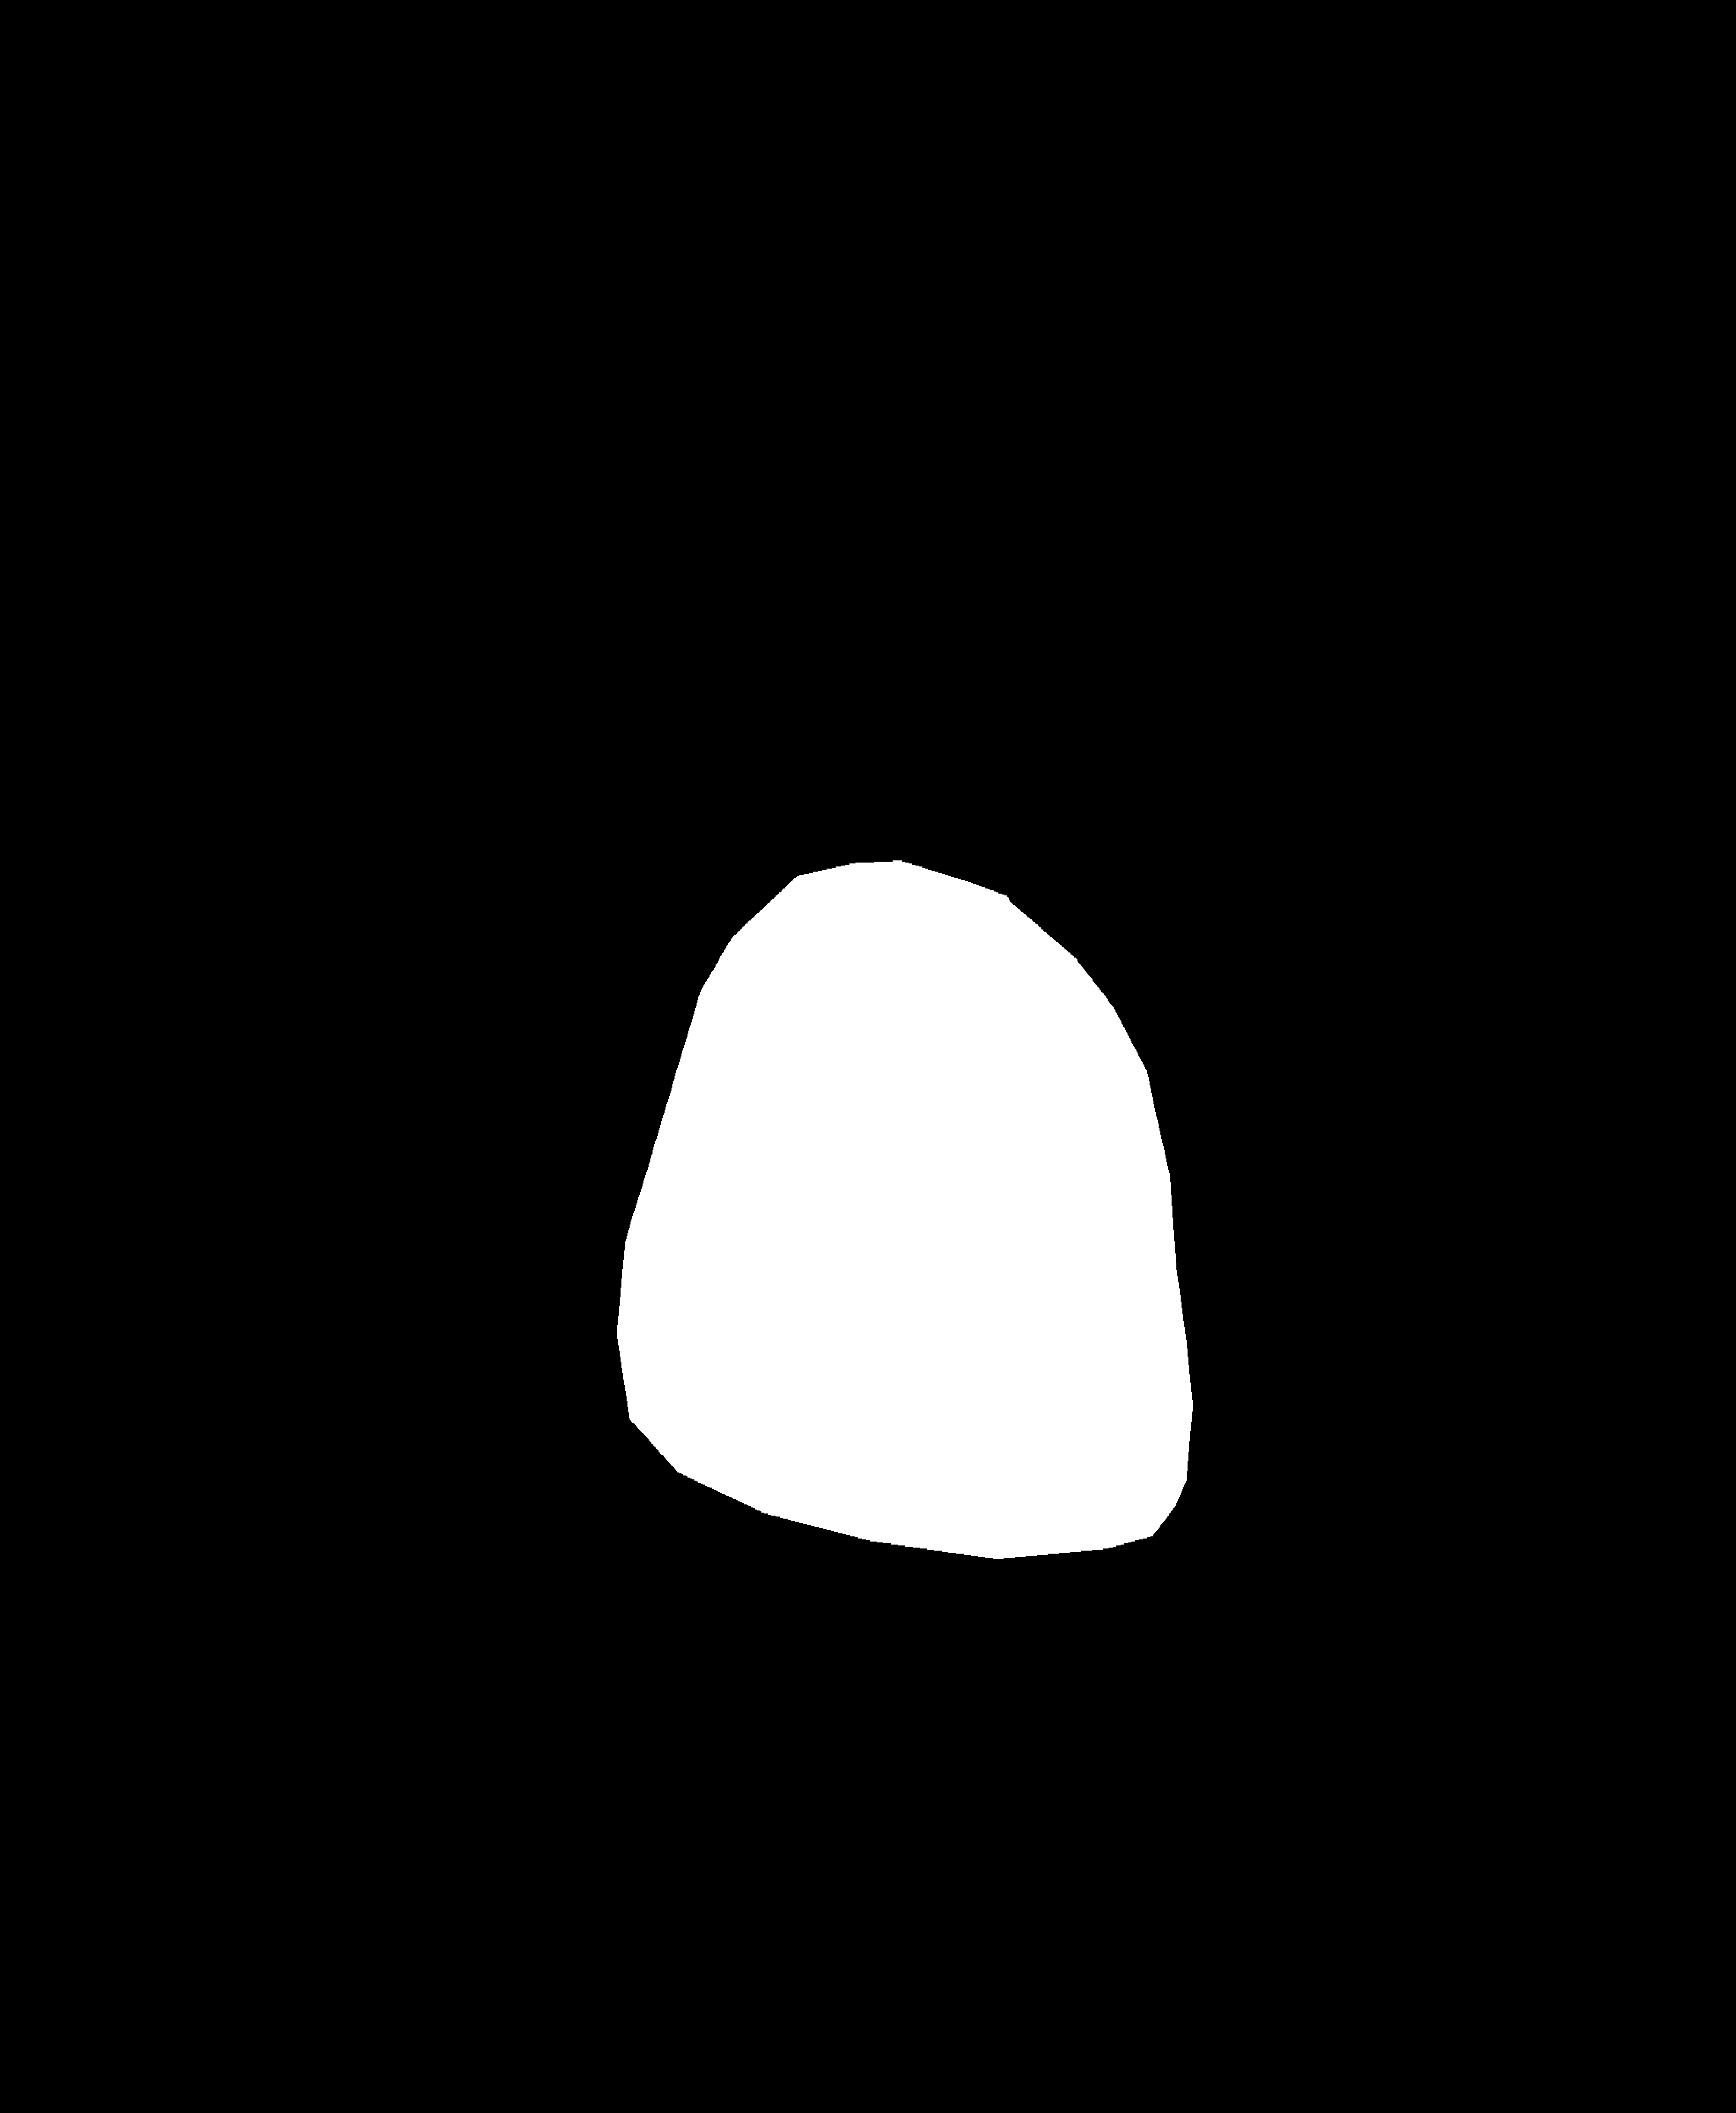heart: (579, 955, 1222, 1616)
left_lung: (163, 247, 781, 1736)
right_lung: (920, 175, 1615, 1813)
